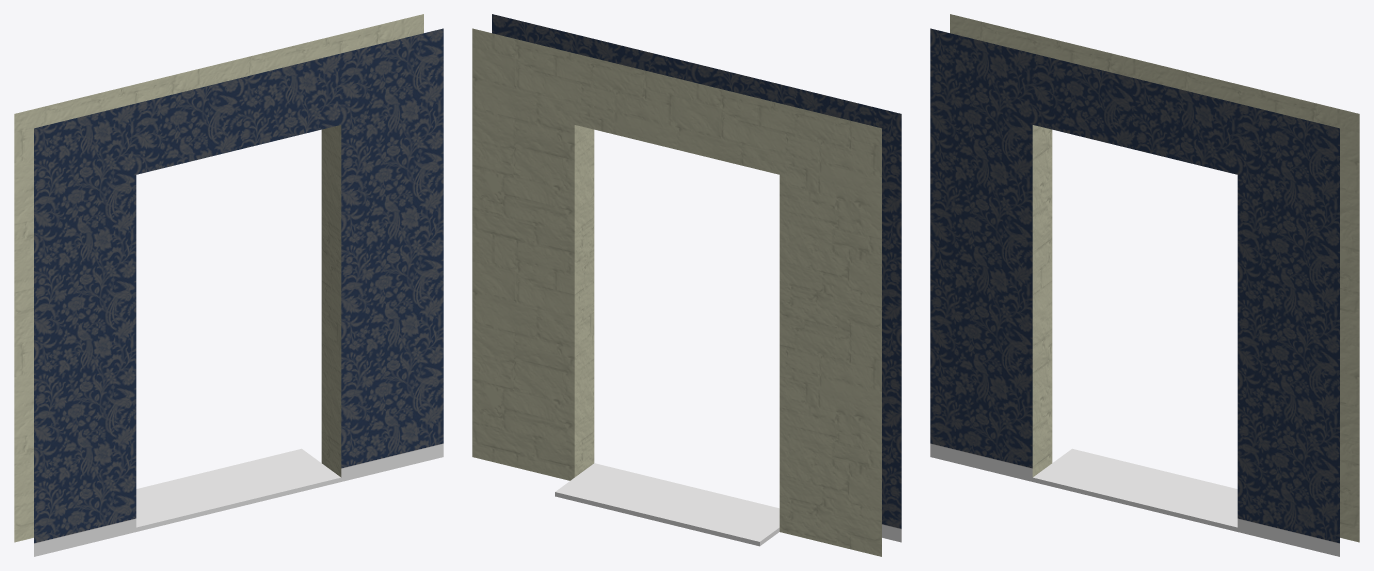
Rendered from doorframe.fbx.
The picture shows the model from 3 angles, left to right: view 1: azimuth 30°, elevation 25°; view 2: azimuth 150°, elevation 25°; view 3: azimuth 330°, elevation 25°; orthographic projection.
Visible parts, largest first — view 1: doorway, doorstep; view 2: doorway, doorstep; view 3: doorway, doorstep.
Part boxes in pixels (x1=…): doorway: x1=14, y1=14, x2=443, y2=556; doorstep: x1=136, y1=448, x2=341, y2=531; doorway: x1=472, y1=14, x2=901, y2=556; doorstep: x1=555, y1=463, x2=779, y2=546; doorway: x1=930, y1=14, x2=1359, y2=556; doorstep: x1=1032, y1=448, x2=1237, y2=531.
Bounding box in the file's own units: 12 × 12 × 2.
Materials: 1 (1 with a texture image).
